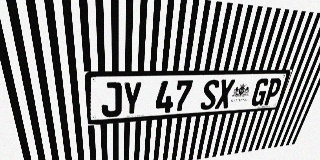4: (155, 81, 176, 114)
7: (172, 80, 193, 112)
G: (250, 78, 271, 106)
J: (100, 82, 122, 118)
P: (262, 78, 283, 105)
S: (199, 79, 220, 110)
X: (214, 79, 235, 109)
Y: (122, 81, 142, 116)
